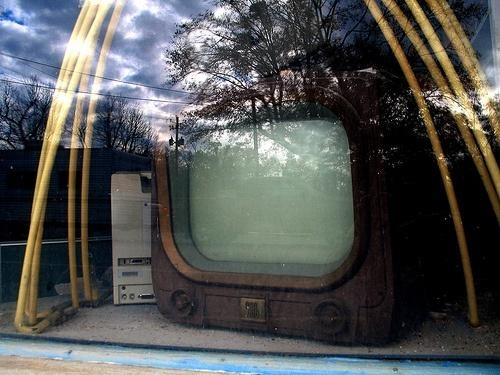tvmonitor: (152, 81, 428, 347)
